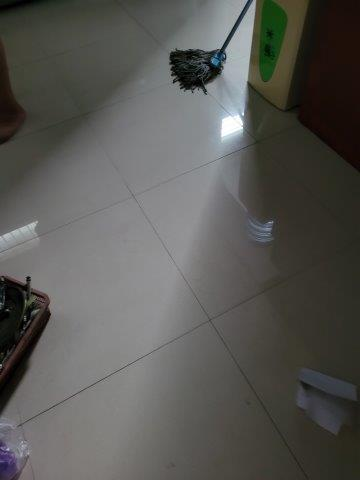kertas: (294, 367, 360, 438)
